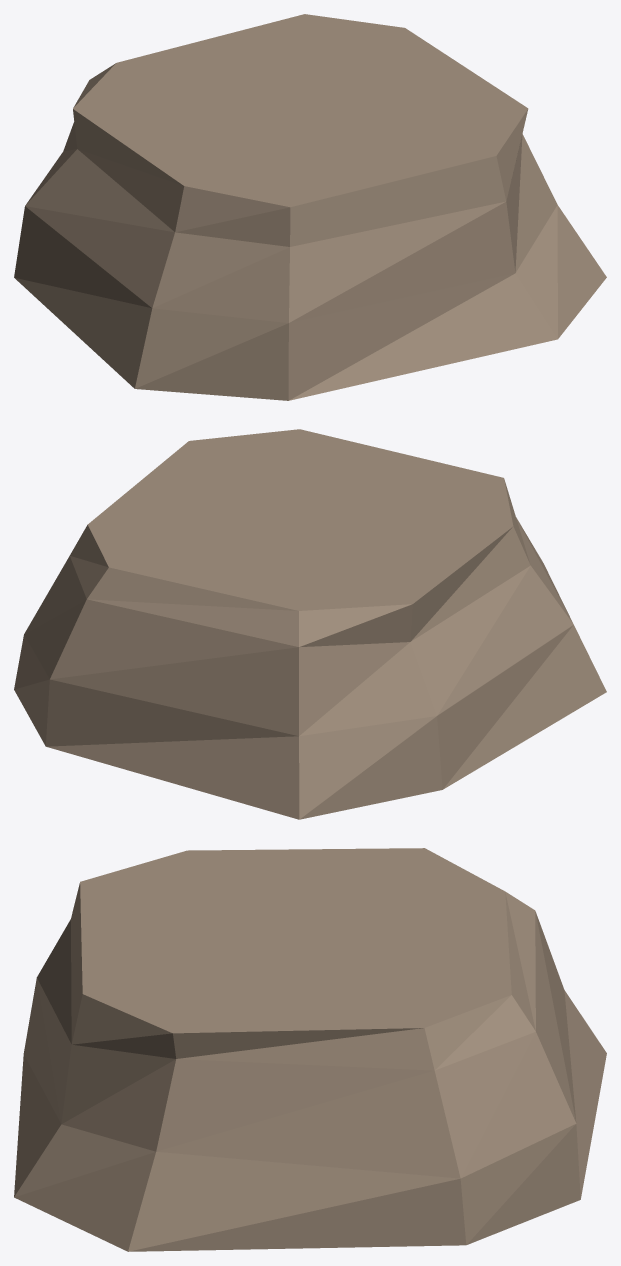
File: magma_escape_rock_4.obj
3 renders of one model, top to bottom at view 1: azimuth 30°, elevation 25°; view 2: azimuth 150°, elevation 25°; view 3: azimuth 270°, elevation 25°, orthographic. The views are drawn at different scales.
Visible parts, largest first — view 1: magma_escape_rock_4; view 2: magma_escape_rock_4; view 3: magma_escape_rock_4.
Boxes of the visible parts, x1=… form: magma_escape_rock_4: x1=14, y1=14, x2=606, y2=400; magma_escape_rock_4: x1=14, y1=429, x2=606, y2=819; magma_escape_rock_4: x1=14, y1=848, x2=606, y2=1251.
Size of the model in its own units: 2.91 by 1 by 2.88.
